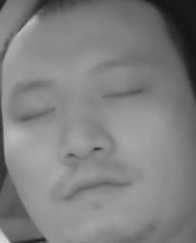blink: (103, 83, 143, 102), (20, 105, 58, 124)
mouth: (60, 173, 129, 206)
